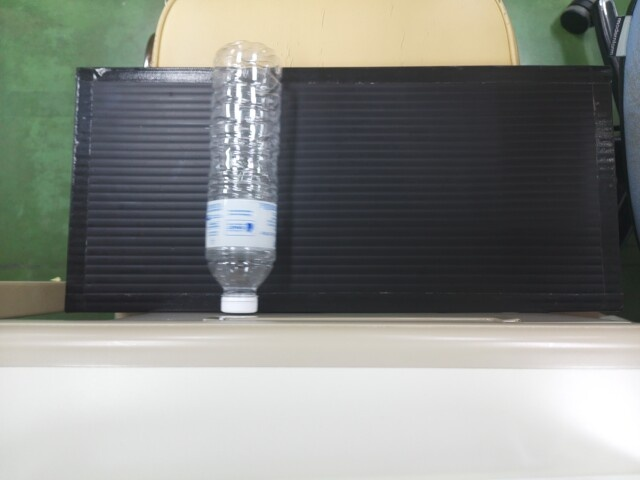plastic_bottle: (209, 38, 281, 306)
